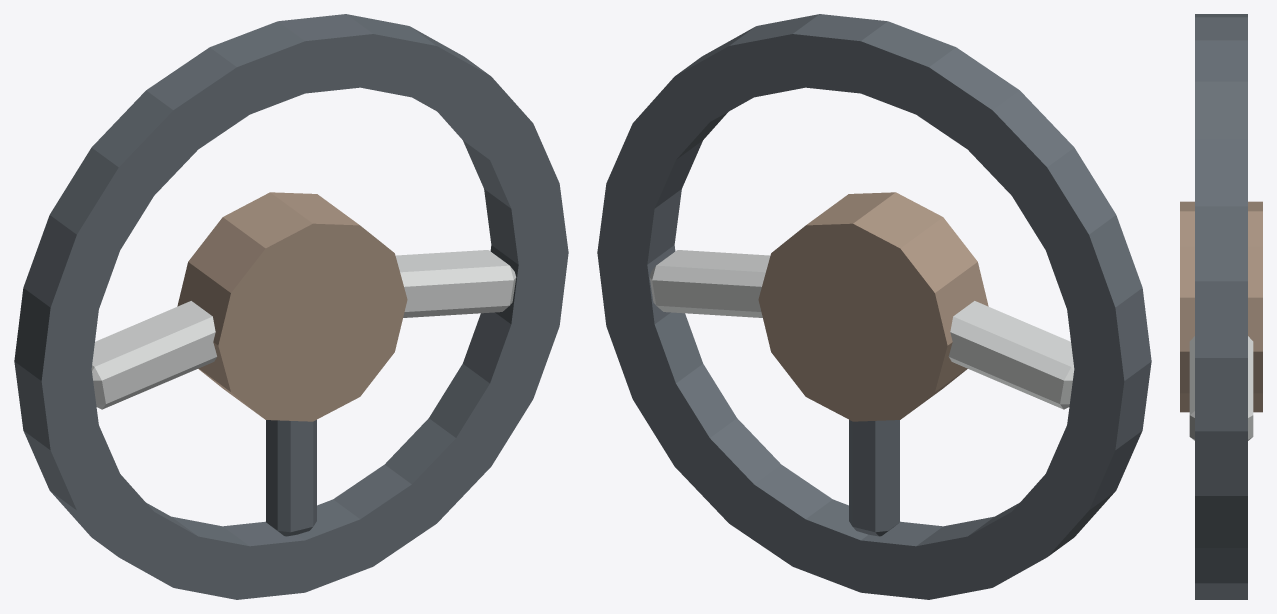
File: SteeringWheel.glb
The picture shows the model from 3 angles, left to right: view 1: azimuth 30°, elevation 25°; view 2: azimuth 150°, elevation 25°; view 3: azimuth 270°, elevation 25°; orthographic projection. The views are drawn at different scales.
Parts seen in each view (by area): view 1: SteeringWheel_CharcoalTrim, SteeringWheel_WalnutDashboard, SteeringWheel_MatteAlloy; view 2: SteeringWheel_CharcoalTrim, SteeringWheel_WalnutDashboard, SteeringWheel_MatteAlloy; view 3: SteeringWheel_CharcoalTrim, SteeringWheel_WalnutDashboard, SteeringWheel_MatteAlloy.
Part boxes in pixels (x1=…): SteeringWheel_CharcoalTrim: x1=14, y1=14, x2=568, y2=599; SteeringWheel_WalnutDashboard: x1=177, y1=192, x2=407, y2=421; SteeringWheel_MatteAlloy: x1=91, y1=250, x2=516, y2=409; SteeringWheel_CharcoalTrim: x1=597, y1=14, x2=1151, y2=599; SteeringWheel_WalnutDashboard: x1=758, y1=192, x2=988, y2=421; SteeringWheel_MatteAlloy: x1=649, y1=250, x2=1074, y2=409; SteeringWheel_CharcoalTrim: x1=1195, y1=14, x2=1247, y2=599; SteeringWheel_WalnutDashboard: x1=1180, y1=201, x2=1262, y2=412; SteeringWheel_MatteAlloy: x1=1189, y1=336, x2=1253, y2=440.
Bounding box in the file's own units: 0.39 × 0.39 × 0.055.
